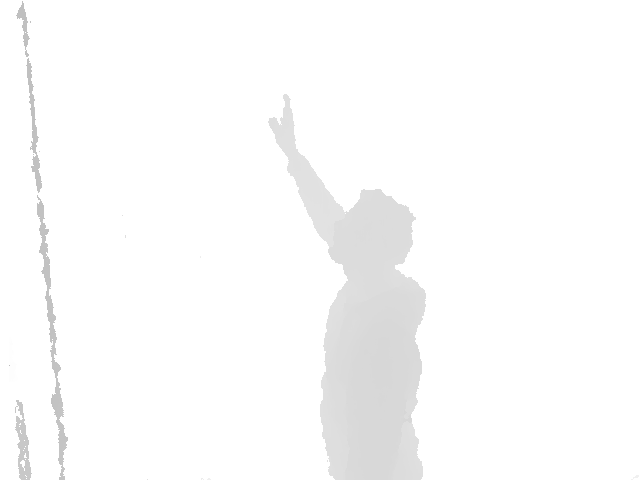hand: (268, 94, 298, 155)
head: (327, 188, 416, 271)
person: (267, 92, 425, 480)
